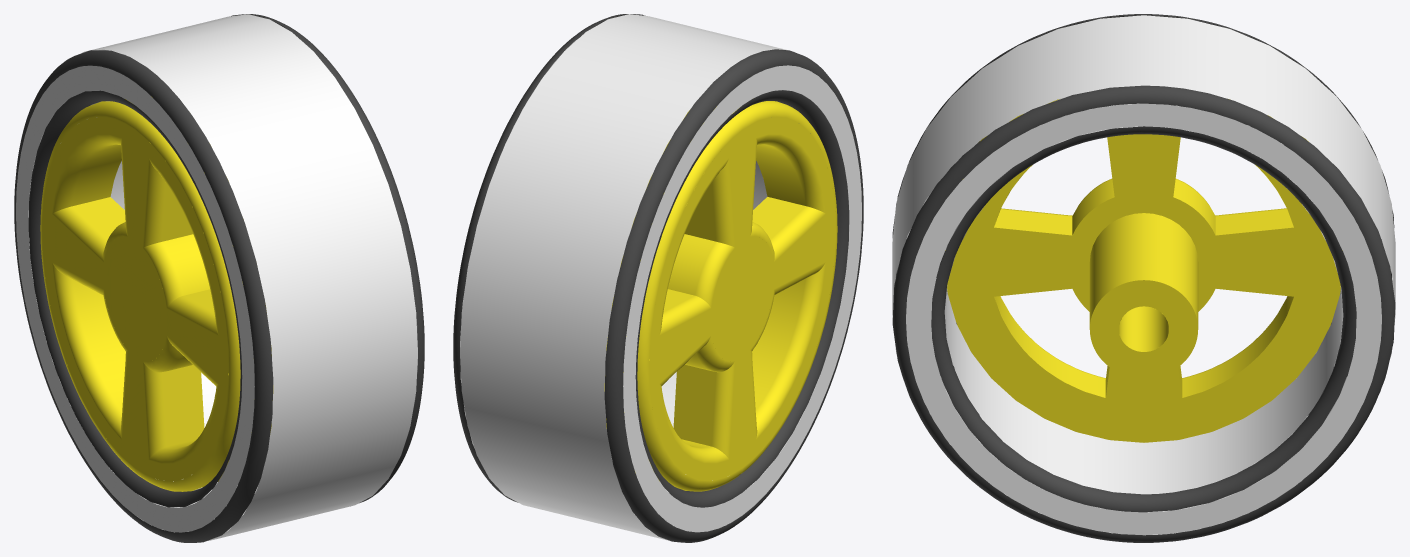
The picture shows the model from 3 angles, left to right: view 1: azimuth 30°, elevation 25°; view 2: azimuth 150°, elevation 25°; view 3: azimuth 270°, elevation 25°; orthographic projection.
Visible parts, largest first — view 1: L2.IGS (×27); view 2: L2.IGS (×27); view 3: L2.IGS (×23).
Part boxes in pixels (x1=…): L2.IGS (×27): x1=14, y1=14, x2=424, y2=542; L2.IGS (×27): x1=453, y1=14, x2=863, y2=542; L2.IGS (×23): x1=892, y1=14, x2=1395, y2=542.
Size of the model in its own units: 0.028 by 0.065 by 0.065.
